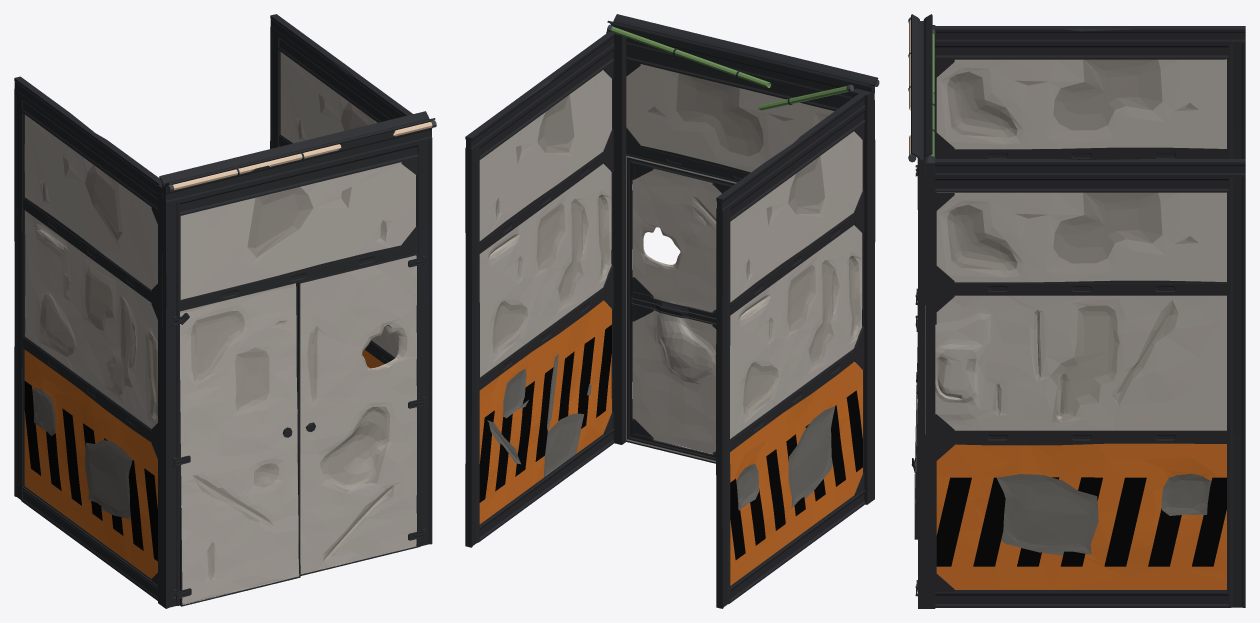
File: SM_Wall_Angle_Door_Broken_02.gltf
3 views of the same model, side by side, from view 1: azimuth 30°, elevation 25°; view 2: azimuth 150°, elevation 25°; view 3: azimuth 270°, elevation 25° (orthographic). The views are drawn at different scales.
Visible parts, largest first — view 1: SM_Wall_Angle_Door_Broken_02, SM_Door_Angle_Left_For_Wall_Door_Broken_02, SM_Door_Angle_Right_For_Wall_Door_Broken_02; view 2: SM_Wall_Angle_Door_Broken_02, SM_Door_Angle_Right_For_Wall_Door_Broken_02; view 3: SM_Wall_Angle_Door_Broken_02, SM_Door_Angle_Left_For_Wall_Door_Broken_02.
Boxes of the visible parts, box(x1,y1,x2,y2) form: SM_Wall_Angle_Door_Broken_02: box(14, 14, 436, 608); SM_Door_Angle_Left_For_Wall_Door_Broken_02: box(174, 282, 300, 606); SM_Door_Angle_Right_For_Wall_Door_Broken_02: box(296, 253, 425, 575); SM_Wall_Angle_Door_Broken_02: box(465, 14, 879, 608); SM_Door_Angle_Right_For_Wall_Door_Broken_02: box(626, 154, 738, 463); SM_Wall_Angle_Door_Broken_02: box(908, 14, 1245, 608); SM_Door_Angle_Left_For_Wall_Door_Broken_02: box(911, 168, 917, 539).
Bounding box in the file's own units: 2 × 3.07 × 2.06.
